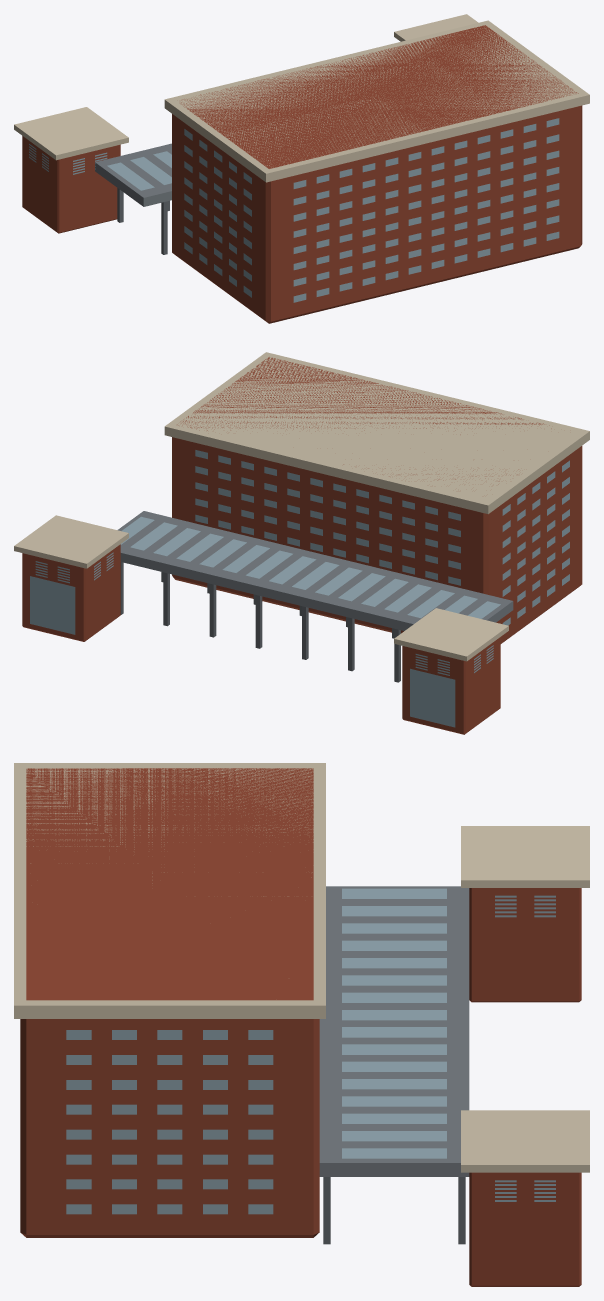
3 views of the same model, one above another, from view 1: azimuth 30°, elevation 25°; view 2: azimuth 150°, elevation 25°; view 3: azimuth 270°, elevation 25° (orthographic). The views are drawn at different scales.
Visible parts, largest first — view 1: jamaica-station-lod0; view 2: jamaica-station-lod0; view 3: jamaica-station-lod0.
Boxes of the visible parts, x1,y1,x2,y2 form: jamaica-station-lod0: (14, 14, 589, 323); jamaica-station-lod0: (14, 352, 589, 734); jamaica-station-lod0: (14, 763, 589, 1286).
Bounding box in the file's own units: 94.39 × 30.8 × 67.73.
